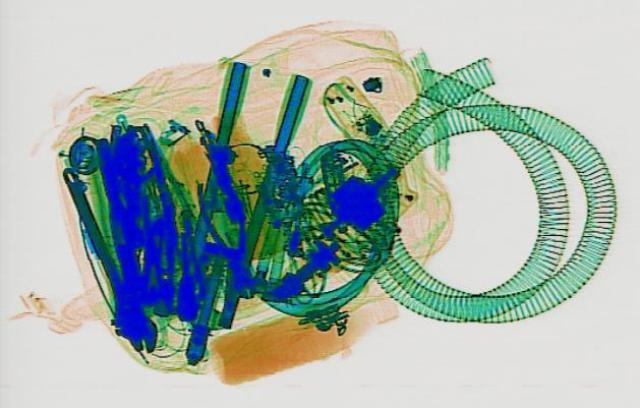Wrench: (97, 199, 161, 351)
